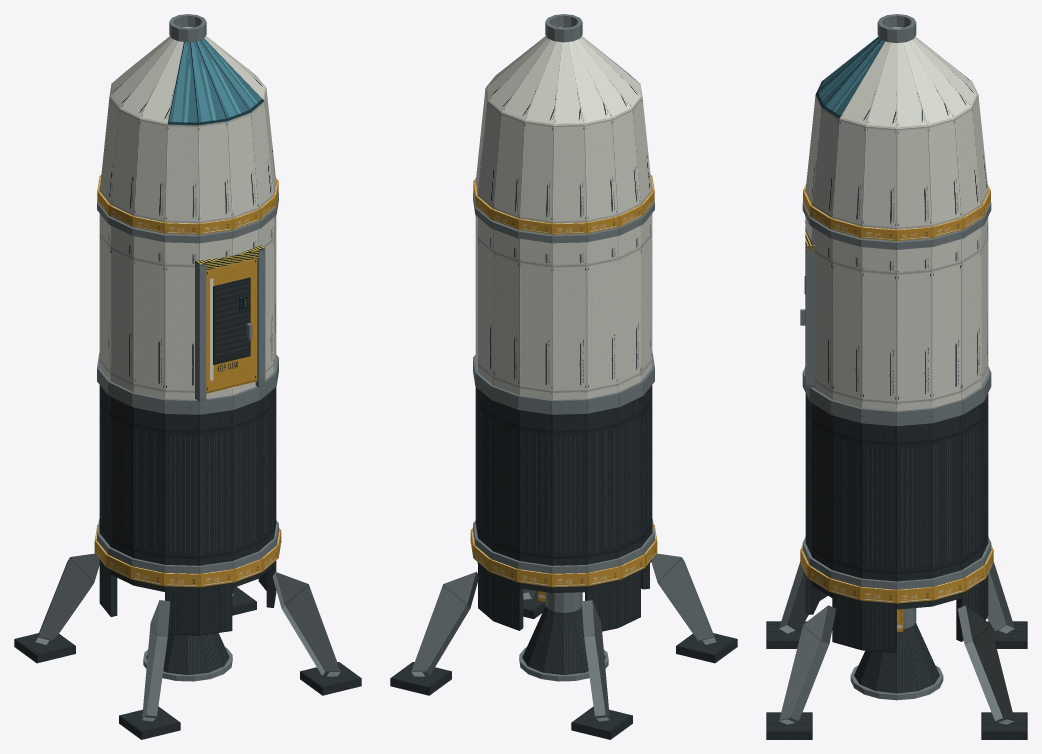
File: rocket-courier.glb
3 views of the same model, side by side, from view 1: azimuth 30°, elevation 25°; view 2: azimuth 150°, elevation 25°; view 3: azimuth 270°, elevation 25° (orthographic). The views are drawn at different scales.
Visible parts, largest first — view 1: 02_TankSection_hull, 04_CommandCapsule_hull, 03_CargoBay_hull, 03_CargoBay_frame, 04_CommandCapsule_glass, 01_Propulsion_hull, LEG_01_landing_leg, LEG_03_landing_leg, Door leaf, LEG_04_landing_leg, 02_TankSection_frame, Door inset (+6 smaller); view 2: 03_CargoBay_hull, 02_TankSection_hull, 04_CommandCapsule_hull, 01_Propulsion_hull, LEG_02_landing_leg, ENGINE_01_engine, LEG_04_landing_leg, 03_CargoBay_frame, LEG_03_landing_leg, 02_TankSection_frame, 01_Propulsion_frame, 04_CommandCapsule_frame (+3 smaller); view 3: 02_TankSection_hull, 03_CargoBay_hull, 04_CommandCapsule_hull, 03_CargoBay_frame, 01_Propulsion_hull, LEG_01_landing_leg, LEG_02_landing_leg, ENGINE_01_engine, 02_TankSection_frame, 01_Propulsion_frame, 04_CommandCapsule_frame, 04_CommandCapsule_glass (+5 smaller).
Part boxes in pixels (box(x1,y1,x2,y2)): 02_TankSection_hull: box(99, 385, 276, 565); 04_CommandCapsule_hull: box(99, 27, 276, 223); 03_CargoBay_hull: box(99, 213, 276, 399); 03_CargoBay_frame: box(97, 192, 278, 407); 04_CommandCapsule_glass: box(167, 38, 263, 125); 01_Propulsion_hull: box(99, 560, 276, 635); LEG_01_landing_leg: box(272, 572, 361, 695); LEG_03_landing_leg: box(14, 553, 99, 663); Door leaf: box(206, 258, 257, 393); LEG_04_landing_leg: box(119, 600, 180, 739); 02_TankSection_frame: box(97, 366, 278, 573); Door inset: box(213, 277, 250, 364); 03_CargoBay_hull: box(475, 213, 652, 399); 02_TankSection_hull: box(475, 385, 652, 565); 04_CommandCapsule_hull: box(475, 27, 652, 223); 01_Propulsion_hull: box(478, 564, 649, 631); LEG_02_landing_leg: box(390, 572, 479, 695); ENGINE_01_engine: box(522, 591, 605, 674); LEG_04_landing_leg: box(651, 553, 737, 663); 03_CargoBay_frame: box(473, 192, 654, 407); LEG_03_landing_leg: box(571, 600, 632, 739); 02_TankSection_frame: box(473, 366, 654, 573); 01_Propulsion_frame: box(470, 524, 657, 587); 04_CommandCapsule_frame: box(473, 175, 654, 234); 02_TankSection_hull: box(805, 393, 988, 581); 03_CargoBay_hull: box(805, 217, 988, 410); 04_CommandCapsule_hull: box(805, 27, 988, 229); 03_CargoBay_frame: box(802, 202, 991, 419); 01_Propulsion_hull: box(805, 574, 988, 653); LEG_01_landing_leg: box(766, 605, 836, 739); LEG_02_landing_leg: box(957, 605, 1027, 739); ENGINE_01_engine: box(854, 608, 939, 693); 02_TankSection_frame: box(802, 380, 991, 589); 01_Propulsion_frame: box(800, 545, 993, 603); 04_CommandCapsule_frame: box(803, 184, 990, 240); 04_CommandCapsule_glass: box(815, 36, 885, 118).
Size of the model in its own units: 4.06 by 11.35 by 4.06.
1 material, 1 textured.
